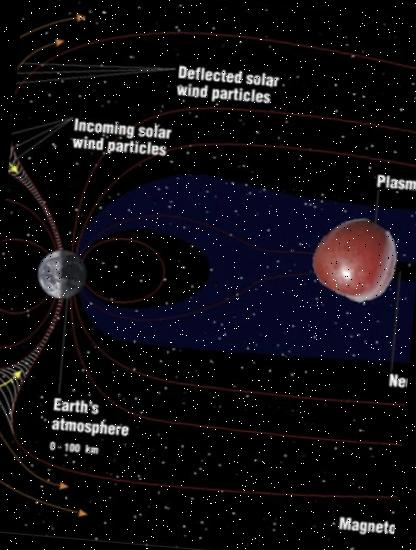Cherry: (312, 214, 402, 304)
